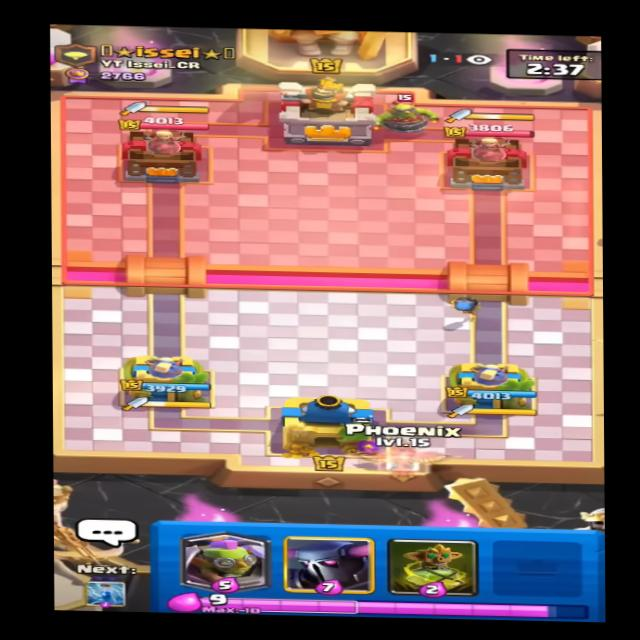goblin-demolisher: (371, 92, 441, 136)
